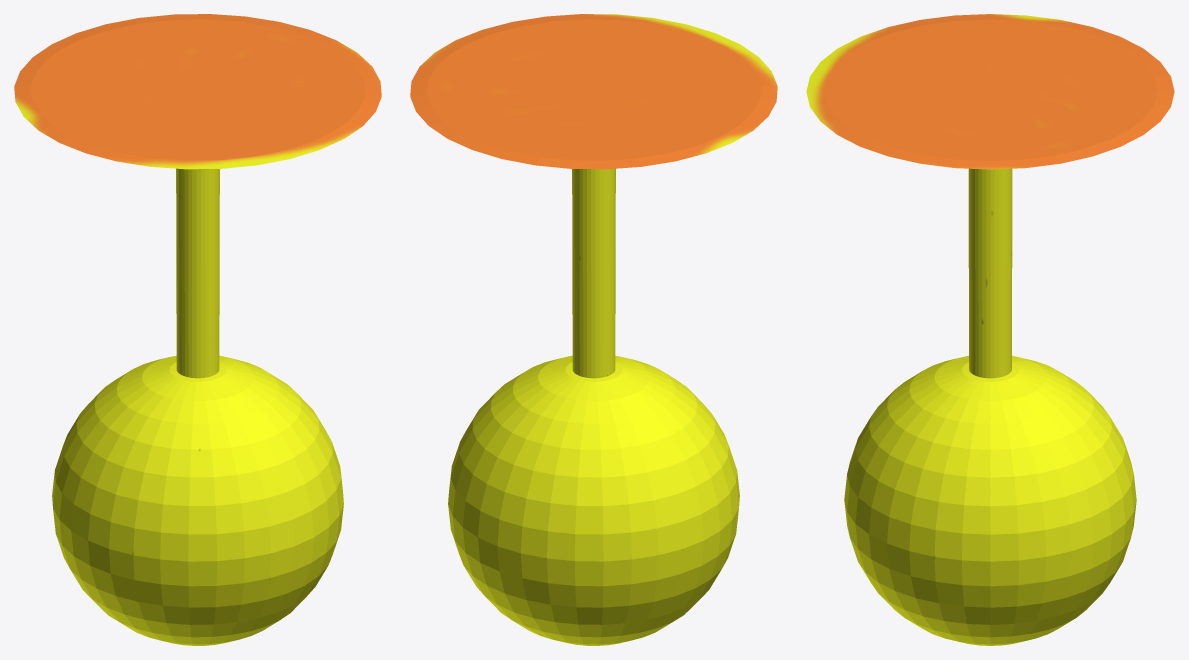
Rendered from Level_4.obj.
The picture shows the model from 3 angles, left to right: view 1: azimuth 30°, elevation 25°; view 2: azimuth 150°, elevation 25°; view 3: azimuth 270°, elevation 25°; orthographic projection.
Visible parts, largest first — view 1: Level_4_Cylinder; view 2: Level_4_Cylinder; view 3: Level_4_Cylinder.
Boxes of the visible parts, x1,y1,x2,y2 form: Level_4_Cylinder: (14, 14, 381, 645); Level_4_Cylinder: (410, 14, 777, 645); Level_4_Cylinder: (806, 14, 1174, 645).
Bounding box in the file's own units: 2.52 × 4.09 × 2.52.
